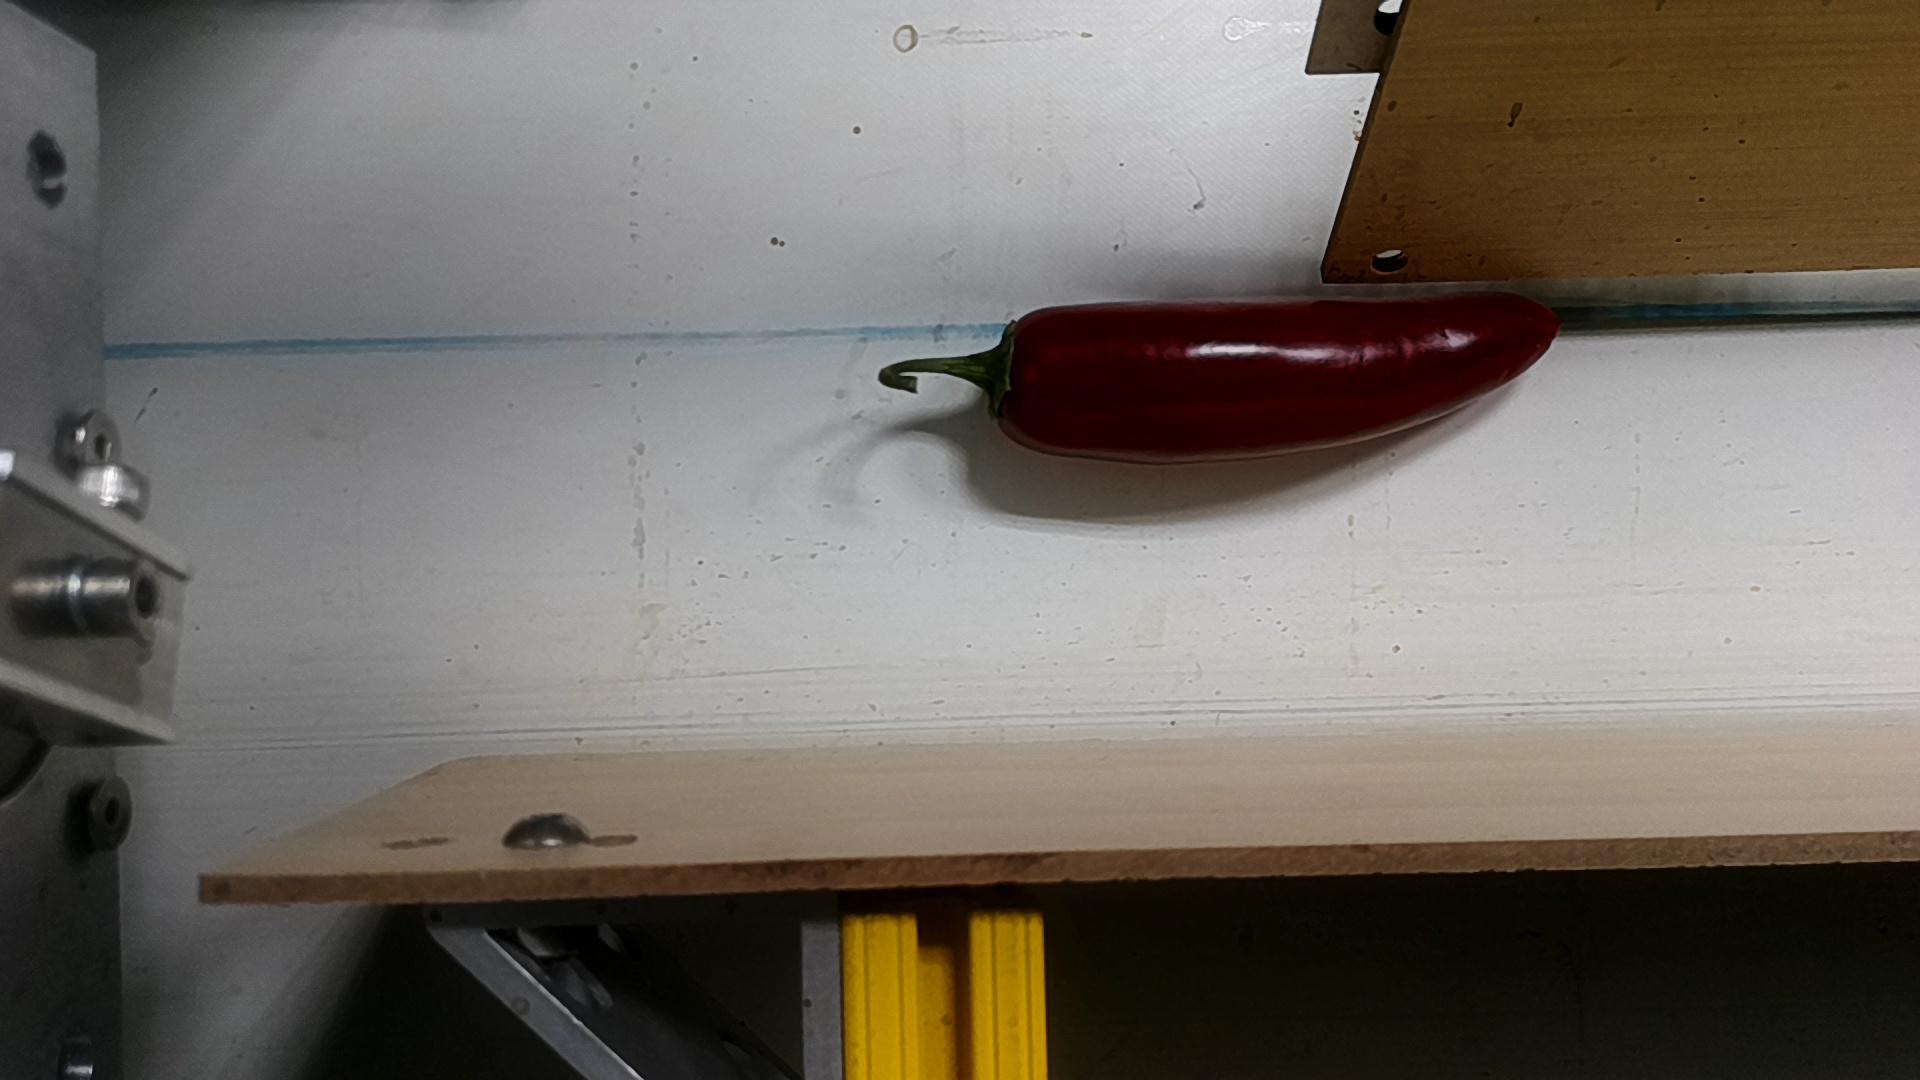Cut Point: (951, 306, 1077, 454)
